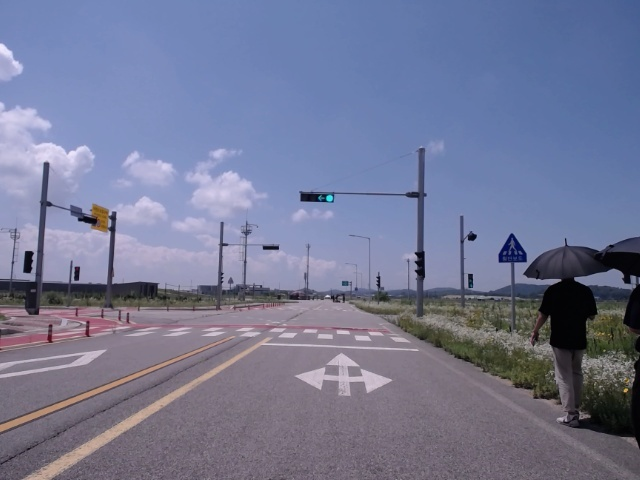all_green_4: (299, 189, 334, 202)
